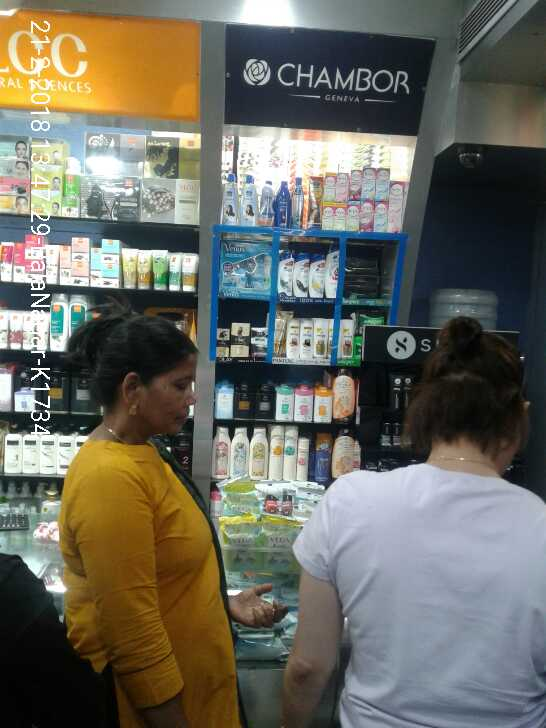venus: (222, 240, 271, 293)
